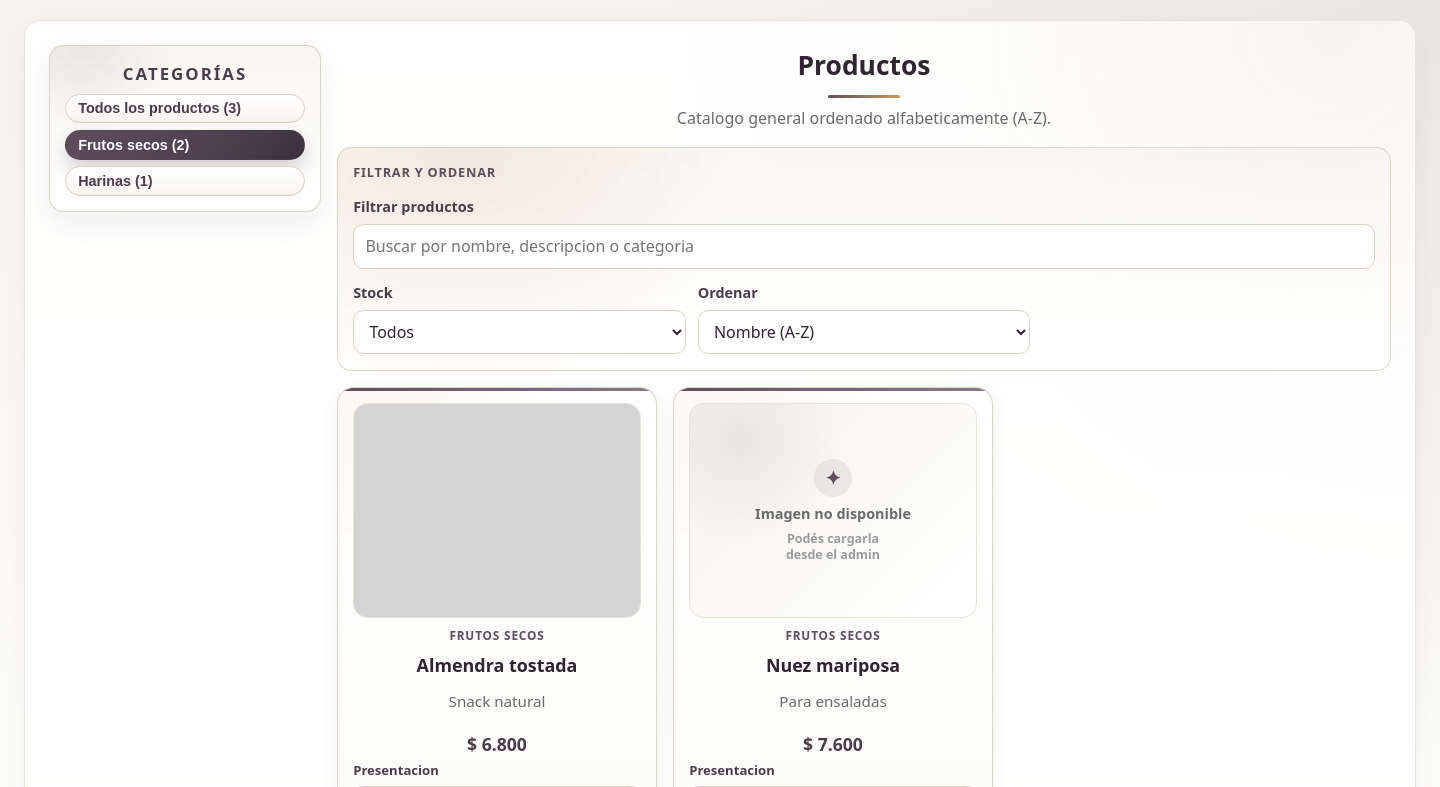
ProductsPage › updates URL-backed search results in real time while preserving the category filter
Expected: the heading "Almendra tostada" is shown, [417,653,577,677]
In the search field labelled "Filtrar productos": (864, 246) [353,224,1375,269], type "nuez"
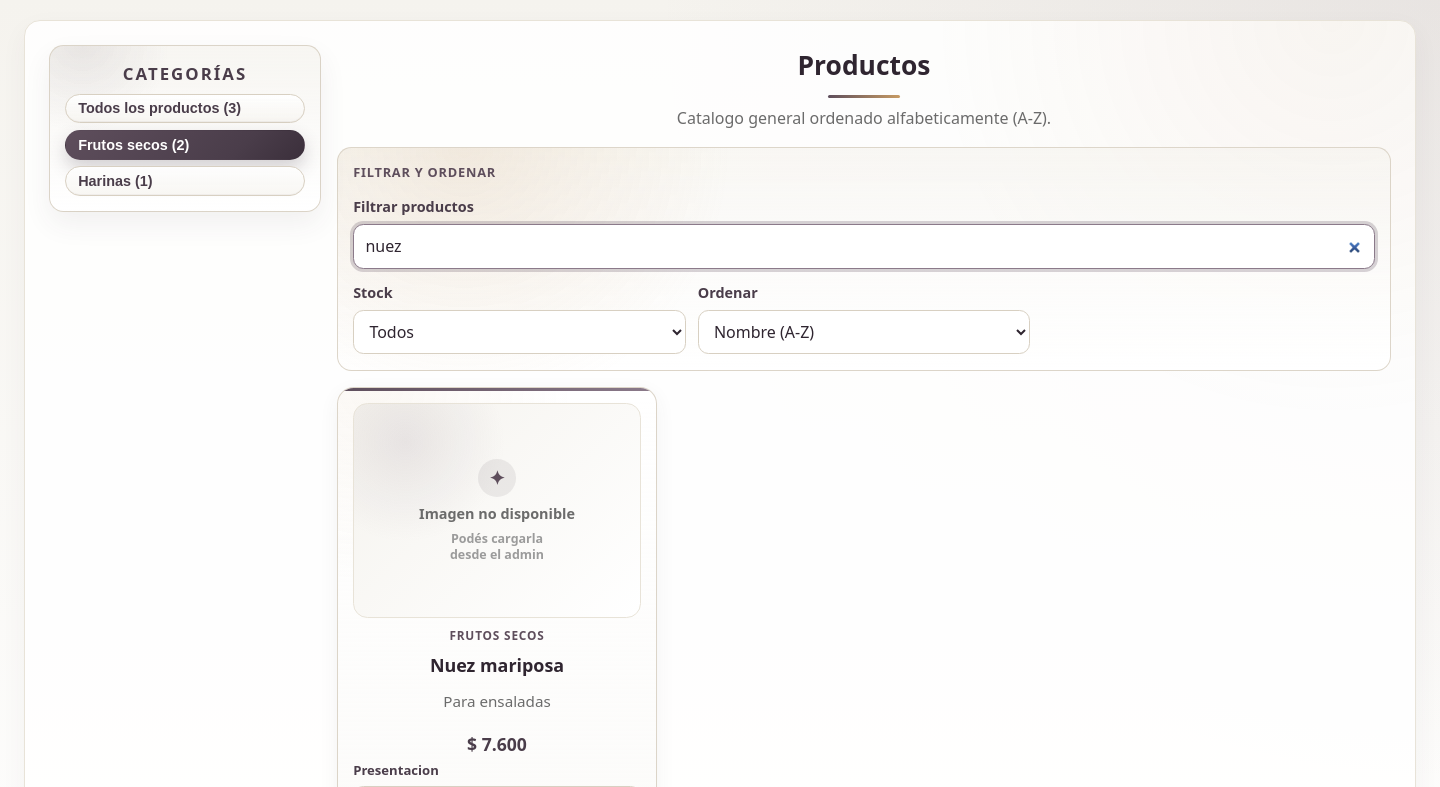
Expected: the heading "Nuez mariposa" is shown, [430,653,564,677]
Now the heading "Almendra tostada" is gone
Clear the search field labelled "Filtrar productos": (864, 246) [353,224,1375,269]
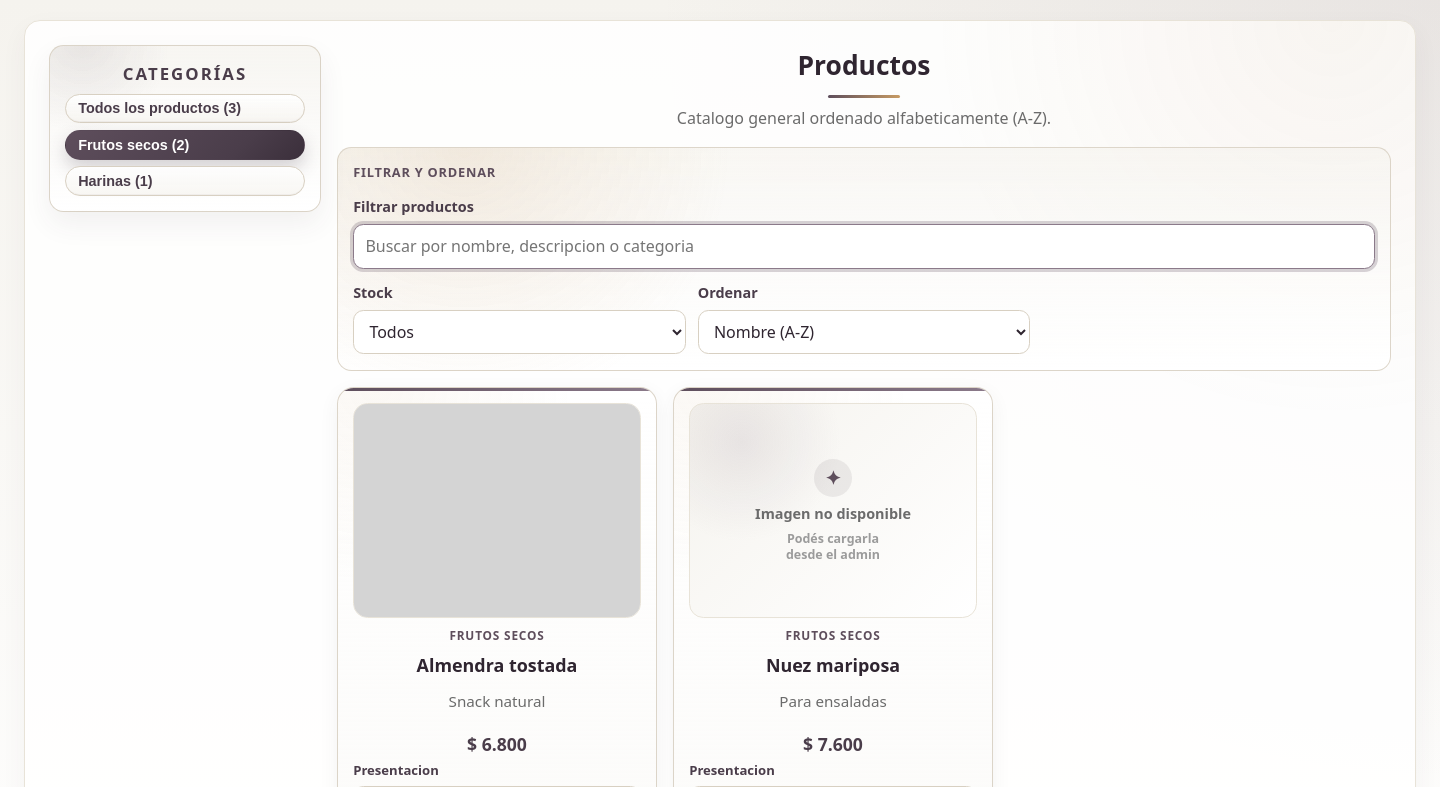
Expected: the heading "Nuez mariposa" is shown, [766,653,900,677]
Now the heading "Almendra tostada" is shown, box [417,653,577,677]
